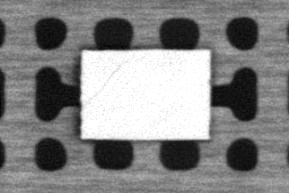DIE_CRACK: (88, 59, 125, 101)
